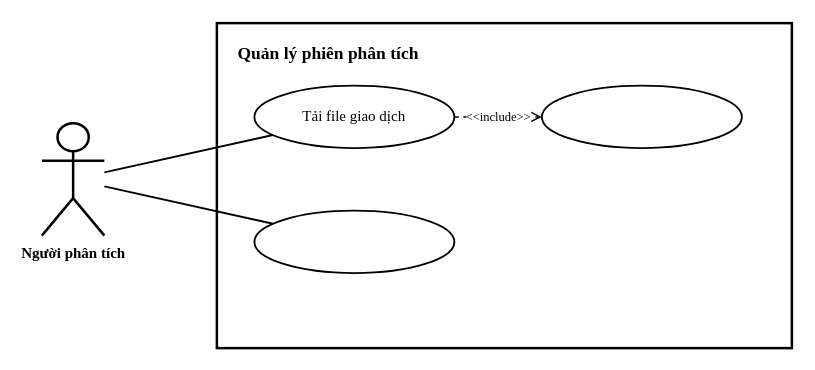
This 815x370 diagram has some shape labels left out. The centre of each missing label's shape, as x and y in pixels:
Chạy phiên AI: (641,116)
Xem lịch sử phân tích: (354,241)
